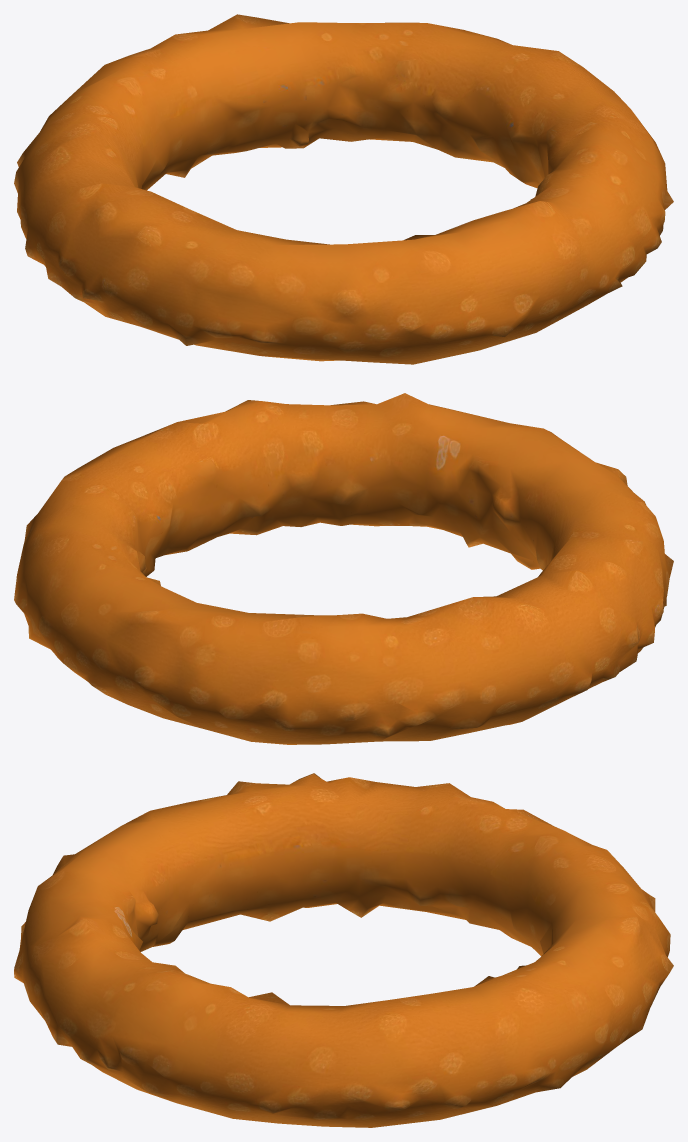
File: Aro de cebolla Frita.fbx
3 views of the same model, one above another, from view 1: azimuth 30°, elevation 25°; view 2: azimuth 150°, elevation 25°; view 3: azimuth 270°, elevation 25° (orthographic).
Visible parts, largest first — view 1: Aro_cebolla_frita:tripo_node_6354246e; view 2: Aro_cebolla_frita:tripo_node_6354246e; view 3: Aro_cebolla_frita:tripo_node_6354246e.
Part boxes in pixels (bbox=[...]): Aro_cebolla_frita:tripo_node_6354246e: bbox=[14, 14, 673, 364]; Aro_cebolla_frita:tripo_node_6354246e: bbox=[14, 393, 673, 744]; Aro_cebolla_frita:tripo_node_6354246e: bbox=[14, 773, 673, 1127].
Bounding box in the file's own units: 6.33 × 1.38 × 6.32.
